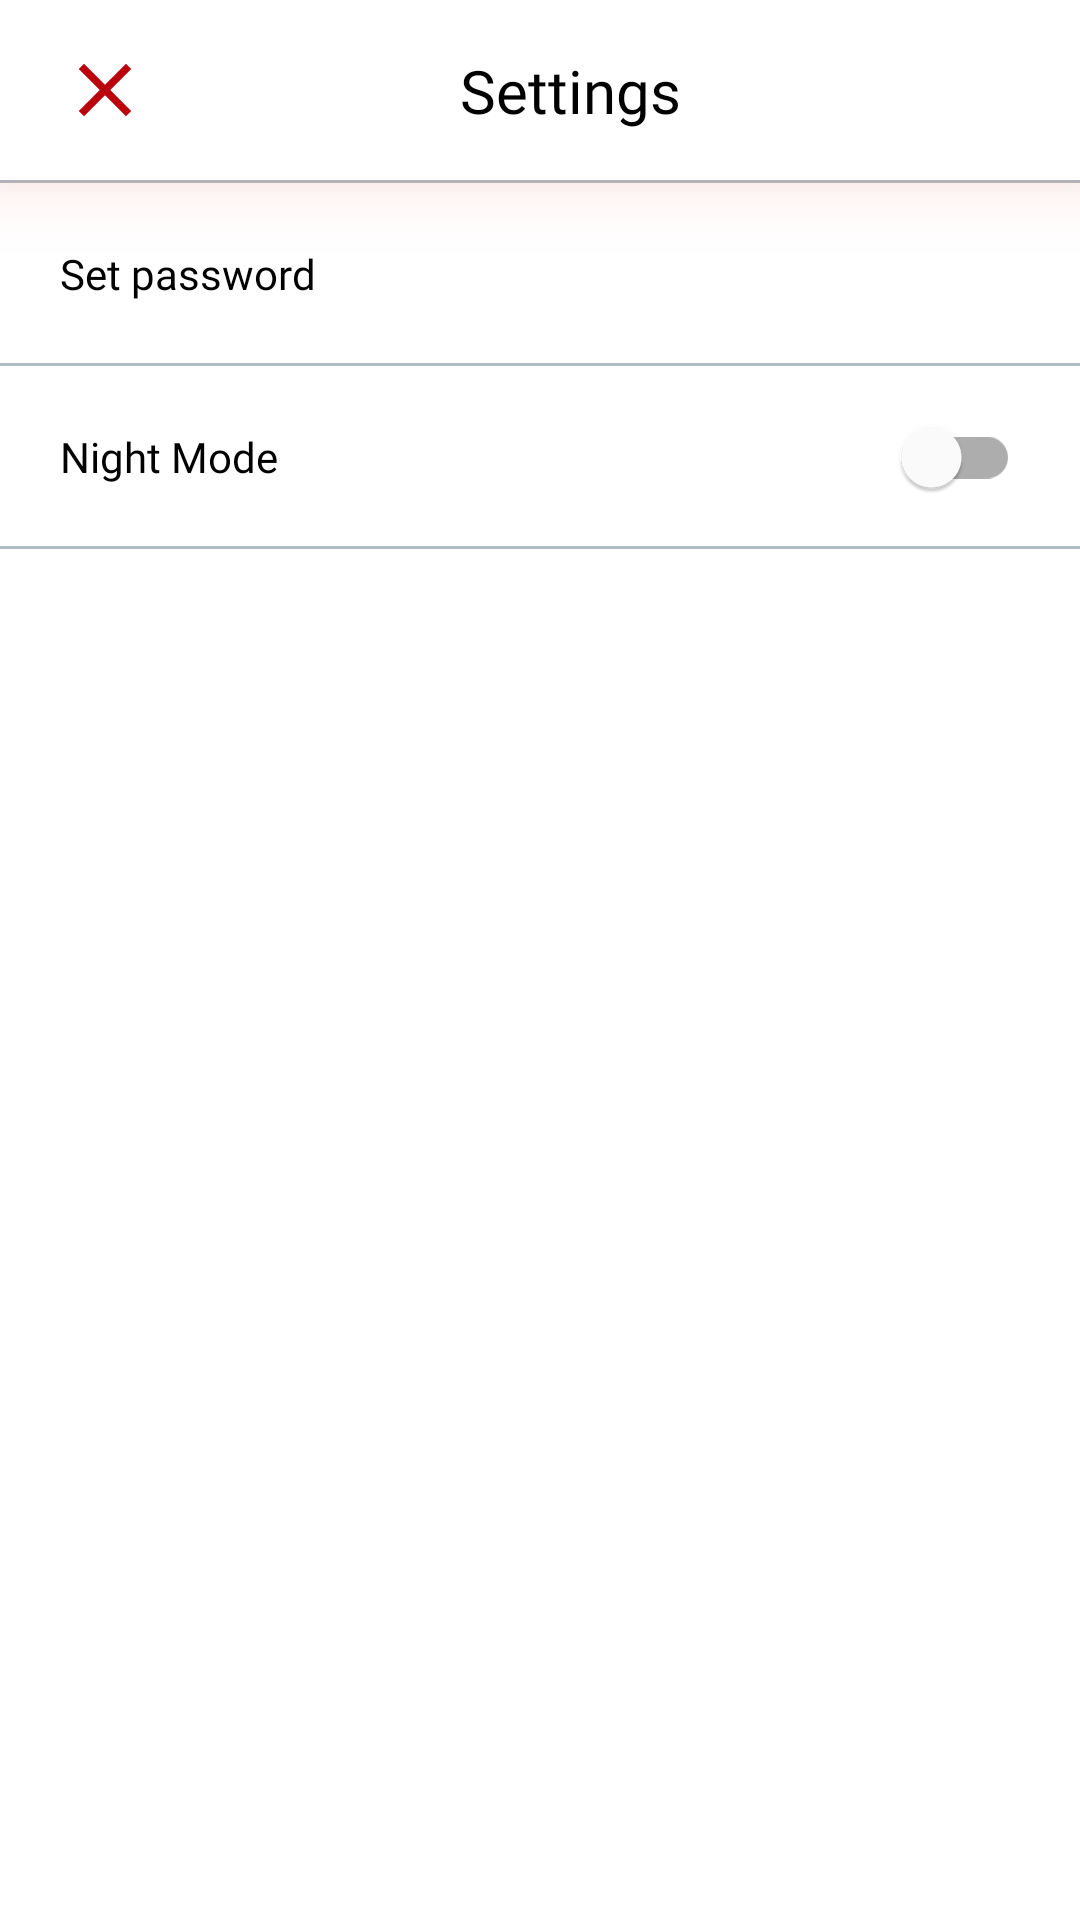

Icon bounding boxes for this 1080×1920 phone screenshot, format [x1, y1, x2, y2]:
clear: [79, 64, 131, 116]
